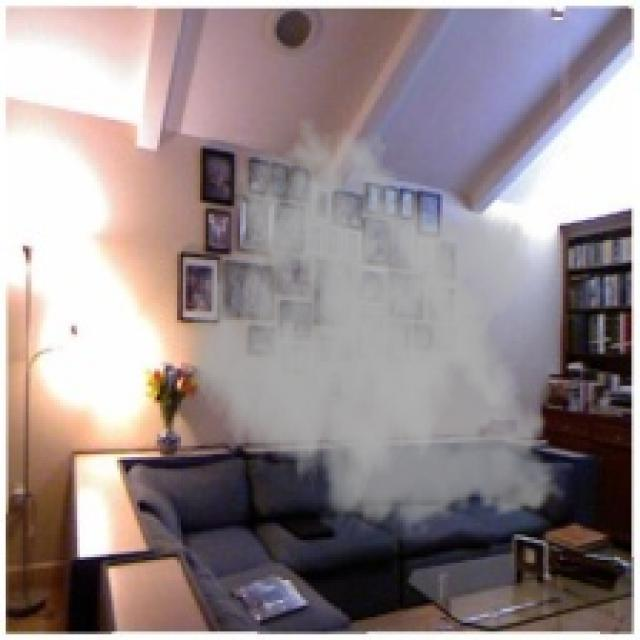Smoke: (188, 115, 572, 540)
